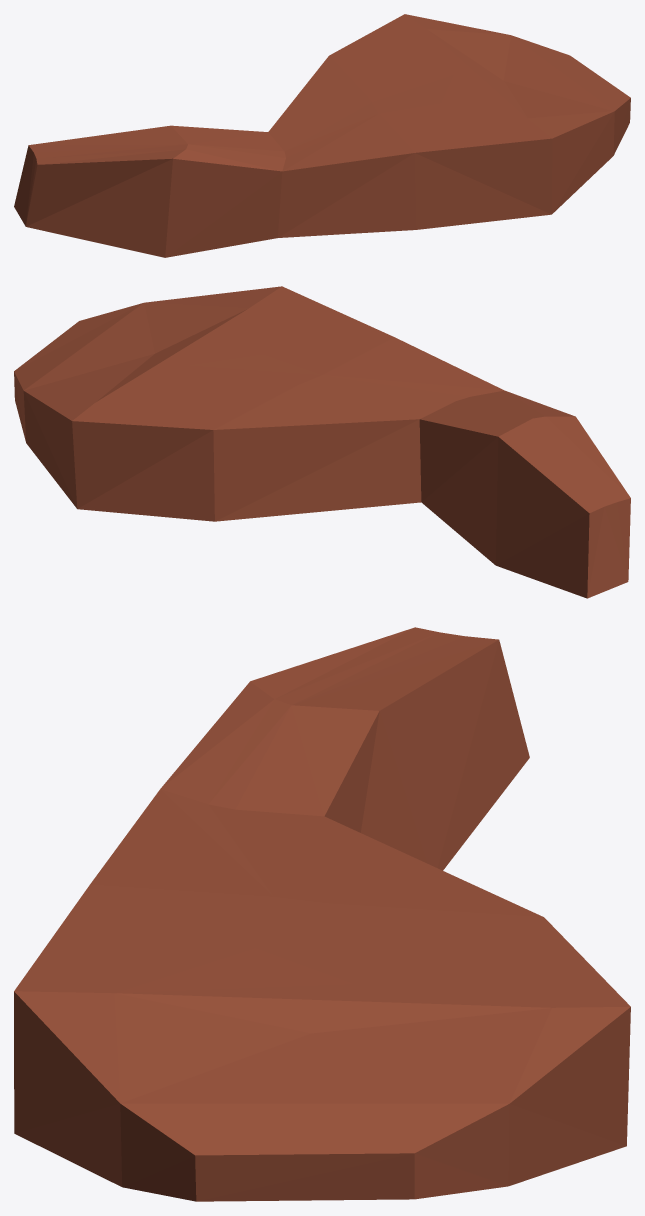
Rendered from cote de porc.fbx.
3 views of the same model, one above another, from view 1: azimuth 30°, elevation 25°; view 2: azimuth 150°, elevation 25°; view 3: azimuth 270°, elevation 25° (orthographic). The views are drawn at different scales.
Visible parts, largest first — view 1: cote de porc; view 2: cote de porc; view 3: cote de porc.
Part boxes in pixels (x1=…): cote de porc: x1=14, y1=14, x2=630, y2=257; cote de porc: x1=14, y1=286, x2=630, y2=598; cote de porc: x1=14, y1=627, x2=630, y2=1201.
Bounding box in the file's own units: 51.67 × 27.28 × 8.95.
